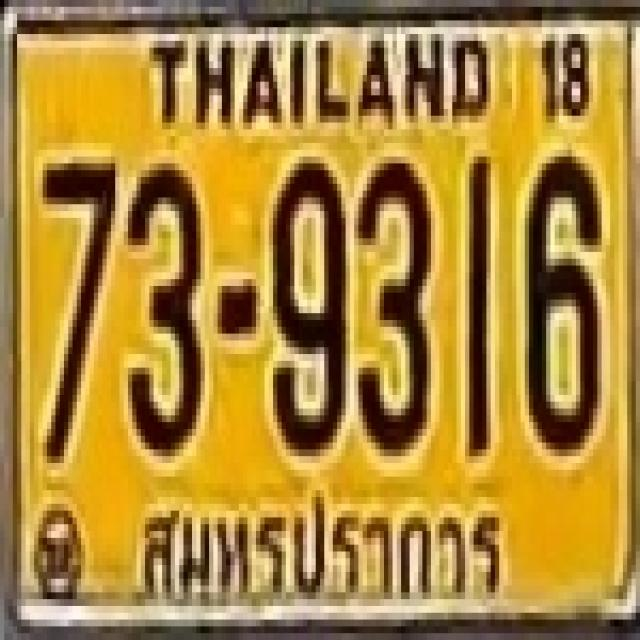1: (465, 156, 486, 450)
3: (354, 156, 427, 450), (124, 156, 196, 450)
6: (520, 150, 598, 442)
7: (38, 157, 116, 456), (38, 157, 116, 354)
9: (269, 156, 341, 450)
SPK: (134, 487, 510, 602)
